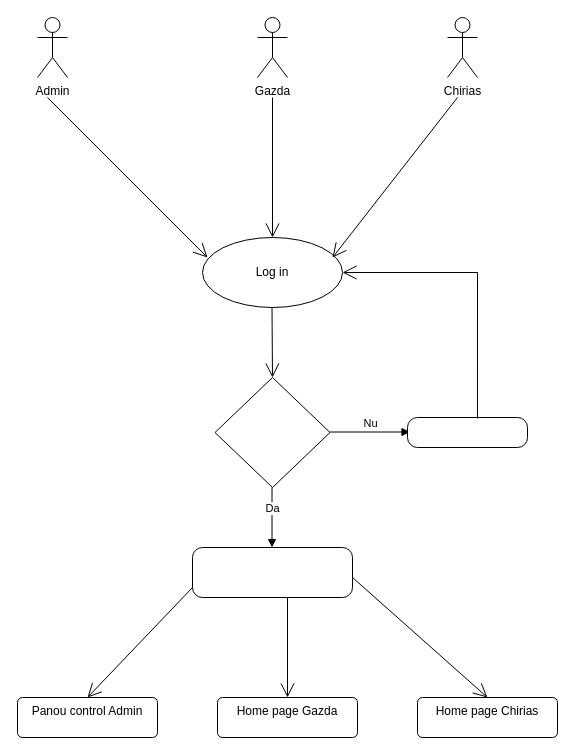
This 575x755 diagram has some shape labels left out. Here are the shapes that lost their labels. From the top down, the centre of each, then its label:
(x=272, y=432): Corect?
(x=467, y=432): Afiseaza eroare
(x=272, y=572): Redirectionare catre:
